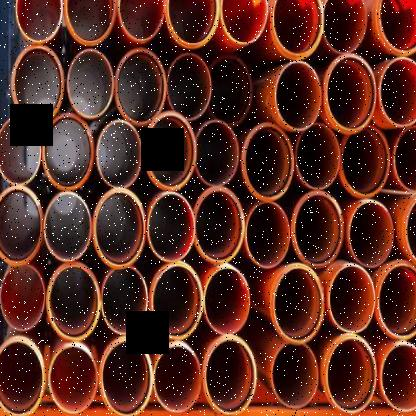pipe: (92, 189, 146, 270), (11, 44, 65, 124), (46, 262, 100, 340), (114, 46, 166, 127), (144, 112, 196, 192), (42, 112, 94, 192), (324, 54, 376, 134), (99, 338, 152, 416), (324, 335, 377, 412), (149, 263, 202, 339), (273, 267, 325, 344), (292, 192, 344, 268), (205, 337, 256, 414), (243, 124, 294, 200), (193, 187, 245, 261), (341, 126, 390, 198), (0, 186, 43, 267), (147, 192, 195, 263), (44, 192, 92, 262), (0, 340, 44, 416), (67, 48, 114, 119), (96, 121, 144, 188), (101, 266, 148, 334), (276, 61, 322, 130), (154, 346, 202, 412), (49, 346, 97, 412), (375, 262, 416, 339), (329, 265, 375, 333), (209, 55, 252, 127), (166, 53, 212, 120), (273, 0, 324, 60), (272, 343, 318, 409), (349, 202, 394, 268), (0, 264, 45, 330), (204, 268, 250, 332), (296, 123, 340, 189), (194, 121, 238, 186), (247, 202, 290, 268), (0, 116, 41, 184), (165, 0, 220, 49), (379, 57, 416, 127), (63, 0, 118, 46), (322, 0, 366, 53), (381, 344, 416, 410), (220, 0, 268, 45), (15, 0, 62, 44), (379, 0, 416, 54), (118, 0, 165, 42), (393, 125, 416, 191), (402, 192, 416, 270)
